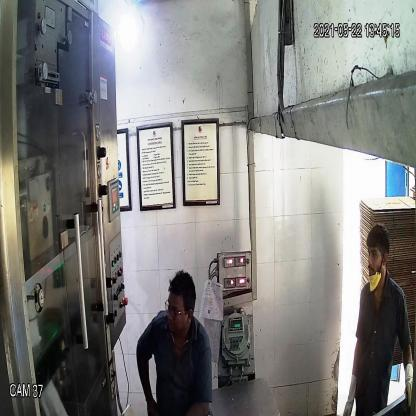goggles: (164, 296, 190, 318)
no_goggles: (365, 246, 387, 261)
